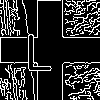L: (25, 25, 53, 71)
